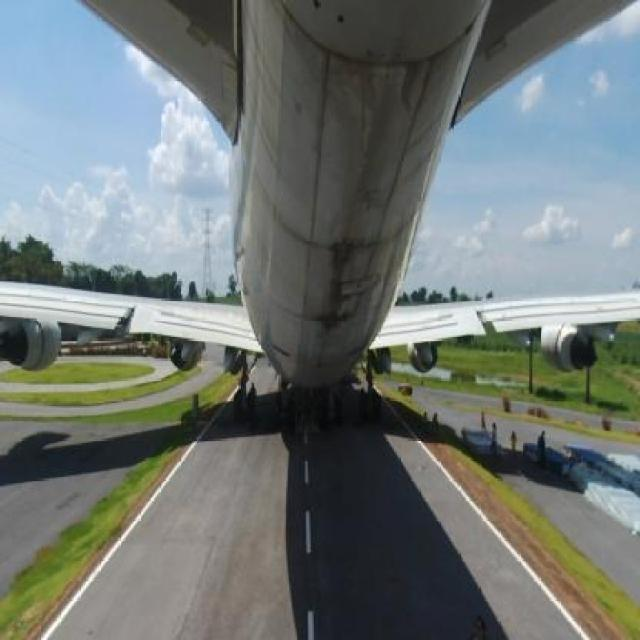Scartch: (321, 35, 428, 213), (296, 214, 381, 340)
